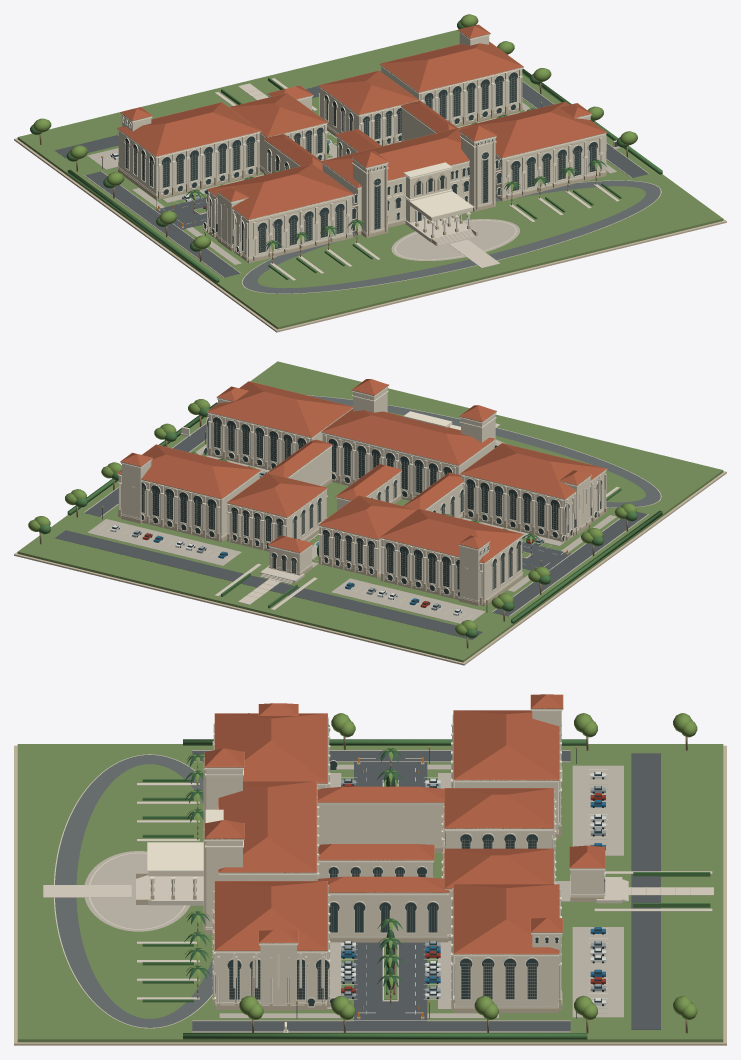
The model's file is Bangunan_SUK.glb.
3 views of the same model, one above another, from view 1: azimuth 30°, elevation 25°; view 2: azimuth 150°, elevation 25°; view 3: azimuth 270°, elevation 25° (orthographic). The views are drawn at different scales.
Visible parts, largest first — view 1: SUK_Ground, SUK_Curved_Drive, SUK_Right_RearWing_Roof, SUK_Left_Wing_Roof, SUK_Left_RearWing_Roof, SUK_Right_Wing_Roof, SUK_Main_Body_Roof, SUK_Perimeter_Roads, SUK_Site_Plinth, SUK_Left_RefinedFacades_Glass, SUK_Plaza, SUK_Left_RearWing (+43 smaller); view 2: SUK_Ground, SUK_Main_Body_Roof, SUK_Rear_Parking_Apron, SUK_Left_RefinedFacades_Glass, SUK_Rear_Parking_Road, SUK_Right_Wing_Roof, SUK_Right_RefinedFacades_Glass, SUK_Left_Wing_Roof, SUK_Right_RearWing_Roof, SUK_Left_RearWing_Roof, SUK_Left_RefinedFacades_Trim, SUK_Site_Plinth (+33 smaller); view 3: SUK_Ground, SUK_Rear_Parking_Road, SUK_Main_Body_Roof, SUK_Rear_Parking_Apron, SUK_Curved_Drive, SUK_Left_RearWing_Roof, SUK_Right_Wing_Roof, SUK_SideAccess_Roads, SUK_Left_Wing_Roof, SUK_Right_RearWing_Roof, SUK_Site_Plinth, SUK_Left_CourtyardGallery (+47 smaller).
Boxes of the visible parts, <box> form: SUK_Ground: <box>17,29,723,329</box>; SUK_Curved_Drive: <box>242,180,660,293</box>; SUK_Right_RearWing_Roof: <box>380,41,522,91</box>; SUK_Left_Wing_Roof: <box>207,163,352,219</box>; SUK_Left_RearWing_Roof: <box>117,102,260,156</box>; SUK_Right_Wing_Roof: <box>461,102,606,157</box>; SUK_Main_Body_Roof: <box>322,128,469,187</box>; SUK_Perimeter_Roads: <box>85,82,647,277</box>; SUK_Site_Plinth: <box>14,138,726,332</box>; SUK_Left_RefinedFacades_Glass: <box>122,118,323,252</box>; SUK_Plaza: <box>391,219,519,260</box>; SUK_Left_RearWing: <box>118,131,259,195</box>; SUK_Ground: <box>17,361,723,662</box>; SUK_Main_Body_Roof: <box>322,409,494,464</box>; SUK_Rear_Parking_Apron: <box>87,519,485,623</box>; SUK_Left_RefinedFacades_Glass: <box>322,479,596,597</box>; SUK_Rear_Parking_Road: <box>55,530,482,639</box>; SUK_Right_Wing_Roof: <box>208,381,352,436</box>; SUK_Right_RefinedFacades_Glass: <box>141,417,321,548</box>; SUK_Left_Wing_Roof: <box>461,443,606,498</box>; SUK_Right_RearWing_Roof: <box>118,444,260,498</box>; SUK_Left_RearWing_Roof: <box>380,508,522,562</box>; SUK_Left_RefinedFacades_Trim: <box>322,478,597,597</box>; SUK_Site_Plinth: <box>14,471,726,665</box>; SUK_Ground: <box>17,744,723,1042</box>; SUK_Rear_Parking_Road: <box>631,753,660,1029</box>; SUK_Main_Body_Roof: <box>218,781,316,872</box>; SUK_Rear_Parking_Apron: <box>572,765,623,1017</box>; SUK_Curved_Drive: <box>55,755,212,1027</box>; SUK_Left_RearWing_Roof: <box>453,710,559,779</box>; SUK_Right_Wing_Roof: <box>215,881,327,950</box>; SUK_SideAccess_Roads: <box>354,757,427,1024</box>; SUK_Left_Wing_Roof: <box>215,713,327,782</box>; SUK_Right_RearWing_Roof: <box>453,884,559,953</box>; SUK_Site_Plinth: <box>14,745,726,1045</box>; SUK_Left_CourtyardGallery: <box>317,803,445,848</box>.
Size of the model in its own units: 192 by 33.7 by 194.
